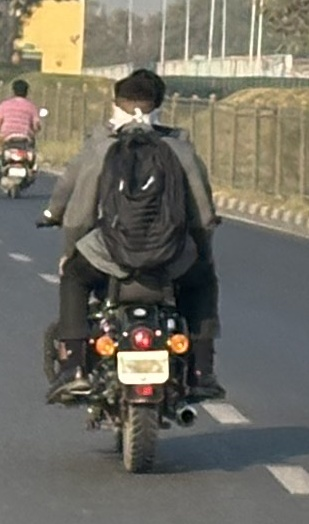BikeWithRider: (31, 65, 227, 476), (0, 76, 50, 201)
NoHelmet: (110, 73, 157, 133), (125, 65, 167, 114), (12, 78, 30, 99)
